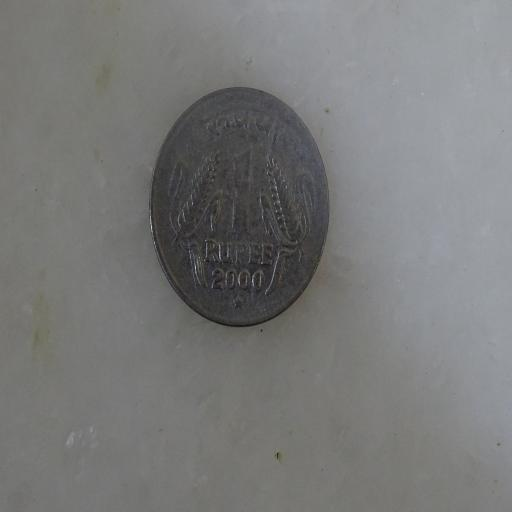rupee1: (146, 86, 331, 327)
